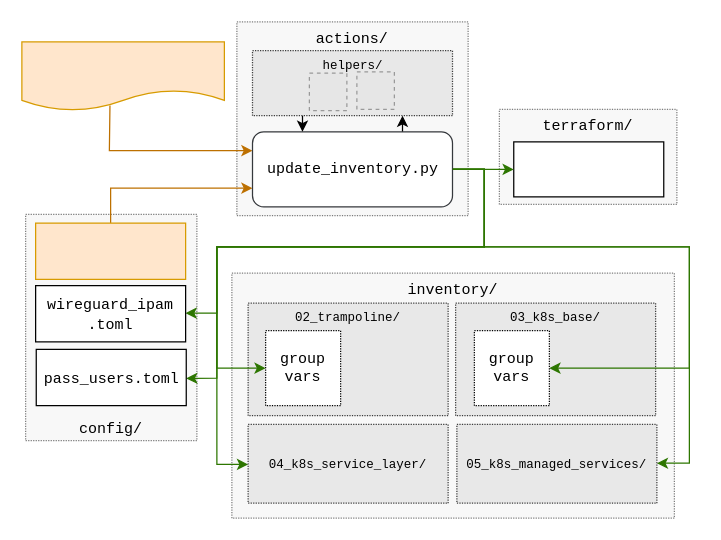
Image size: 721x540. Some labels were removed from this diagram. Grey dashed boxes stand in for pictures. Here are the shapes that lost their labels. From the top down, the centre of each, then its label:
pixel 122 76: Environment Variables
pixel 588 169: config.tfvars.json
pixel 110 250: config.toml
